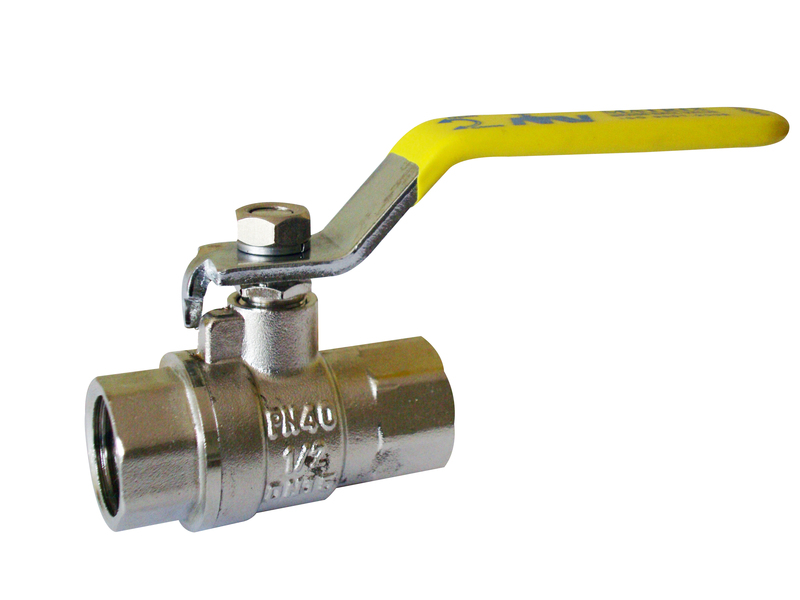valve: (59, 45, 795, 541)
